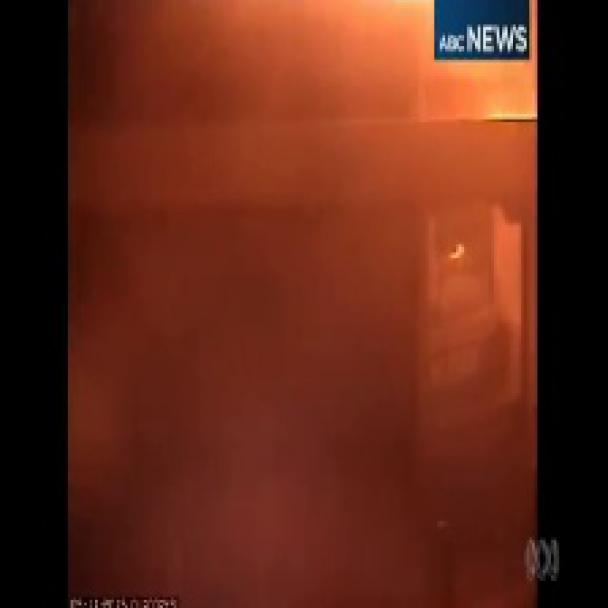smoke: (81, 0, 532, 606)
